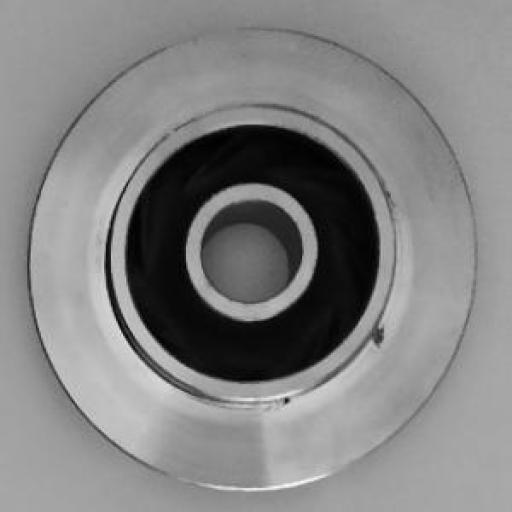defect: (255, 310, 420, 424)
